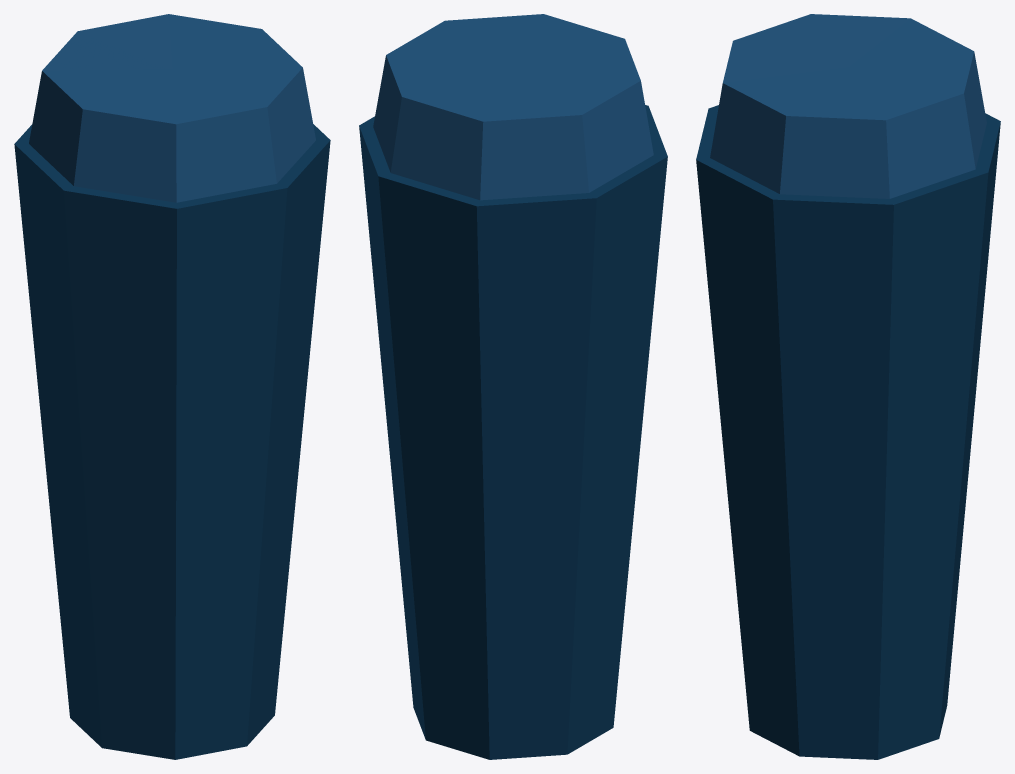
The model's file is Container_Large.fbx.
3 renders of one model, left to right at view 1: azimuth 30°, elevation 25°; view 2: azimuth 150°, elevation 25°; view 3: azimuth 270°, elevation 25°, orthographic.
Parts seen in each view (by area): view 1: Cylinder.010; view 2: Cylinder.010; view 3: Cylinder.010.
Part boxes in pixels (x1=…): Cylinder.010: x1=14, y1=14, x2=330, y2=759; Cylinder.010: x1=359, y1=14, x2=667, y2=759; Cylinder.010: x1=696, y1=14, x2=1000, y2=759.
Size of the model in its own units: 11.44 by 26.97 by 11.44.
